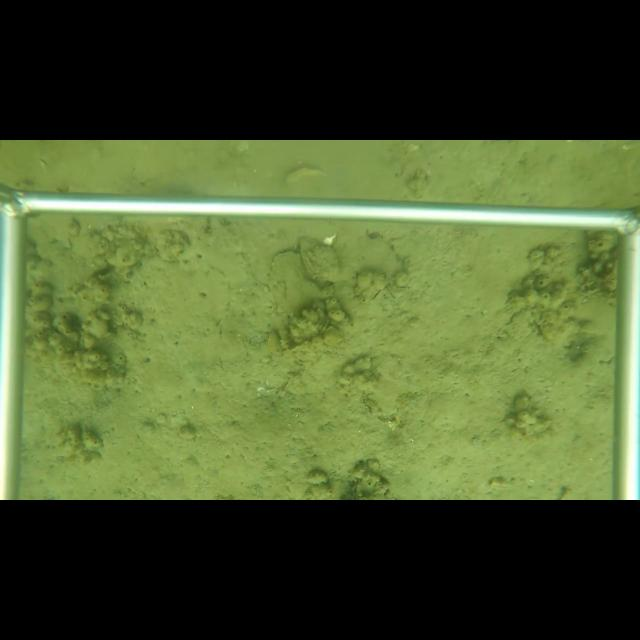Oyster-Closed: (262, 328, 280, 352)
Oyster-Indeterminate: (297, 234, 341, 284)
